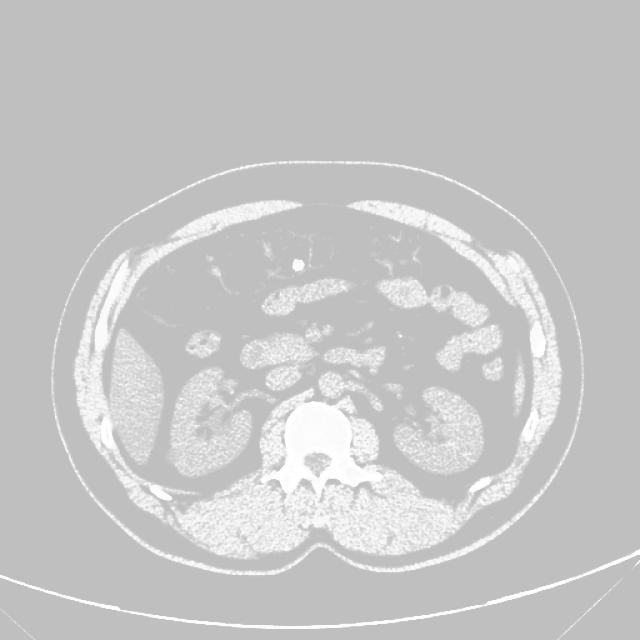cysts: (62, 178, 573, 574)
